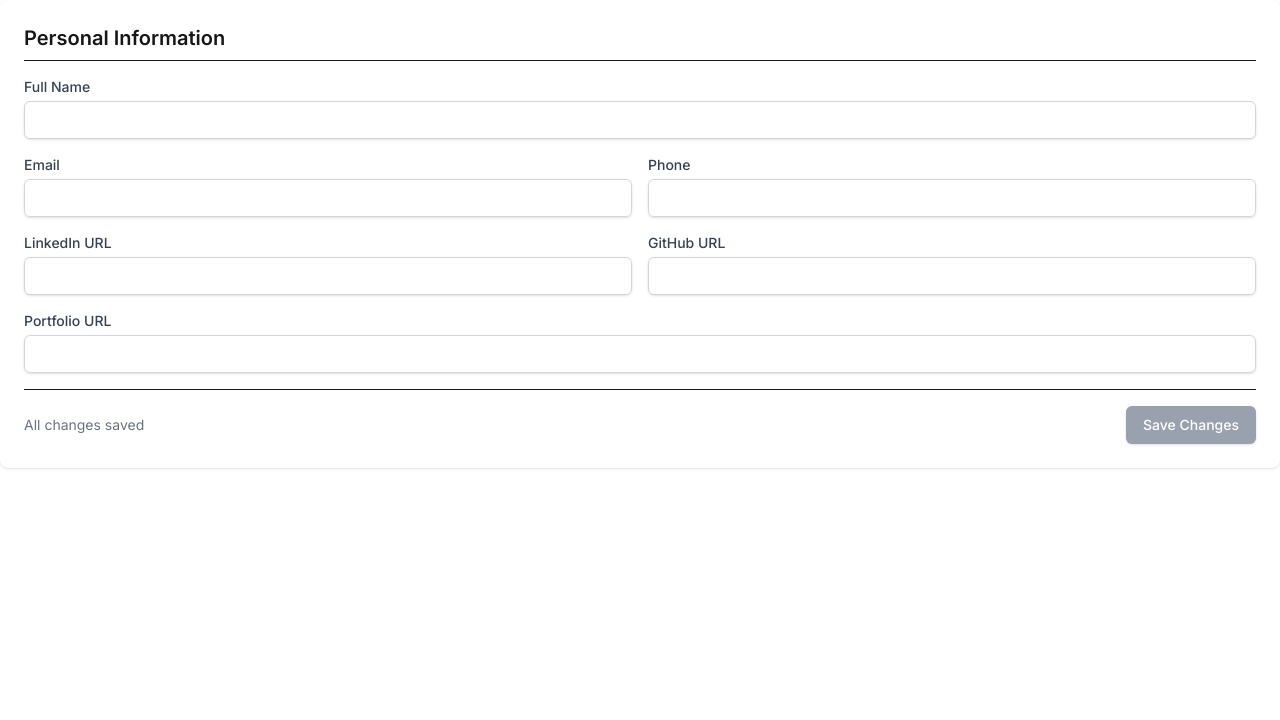
Test: ProfileHeaderForm › handles 401 on save
Type "Jane Doe" into the field named "fullName" below "Full Name" at {"x": 640, "y": 120}, box [24,101,1256,139]
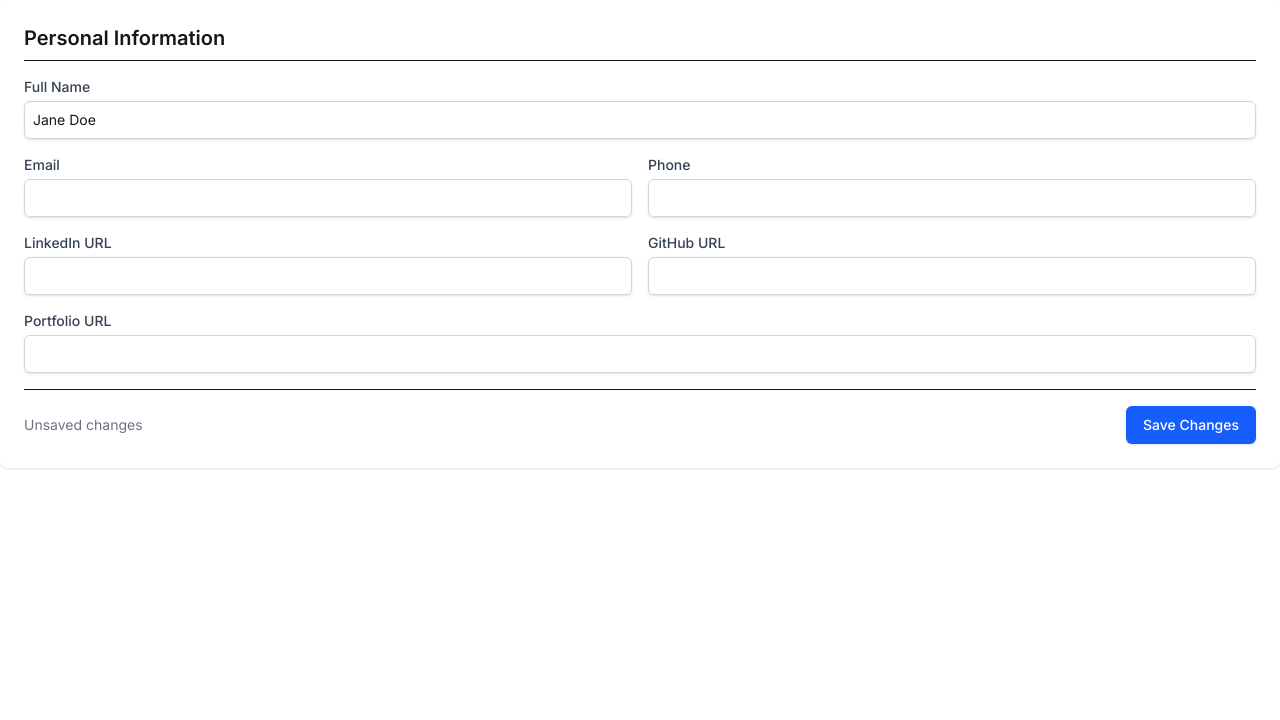
Click the submit button at {"x": 1191, "y": 425}, box [1126,406,1256,444]
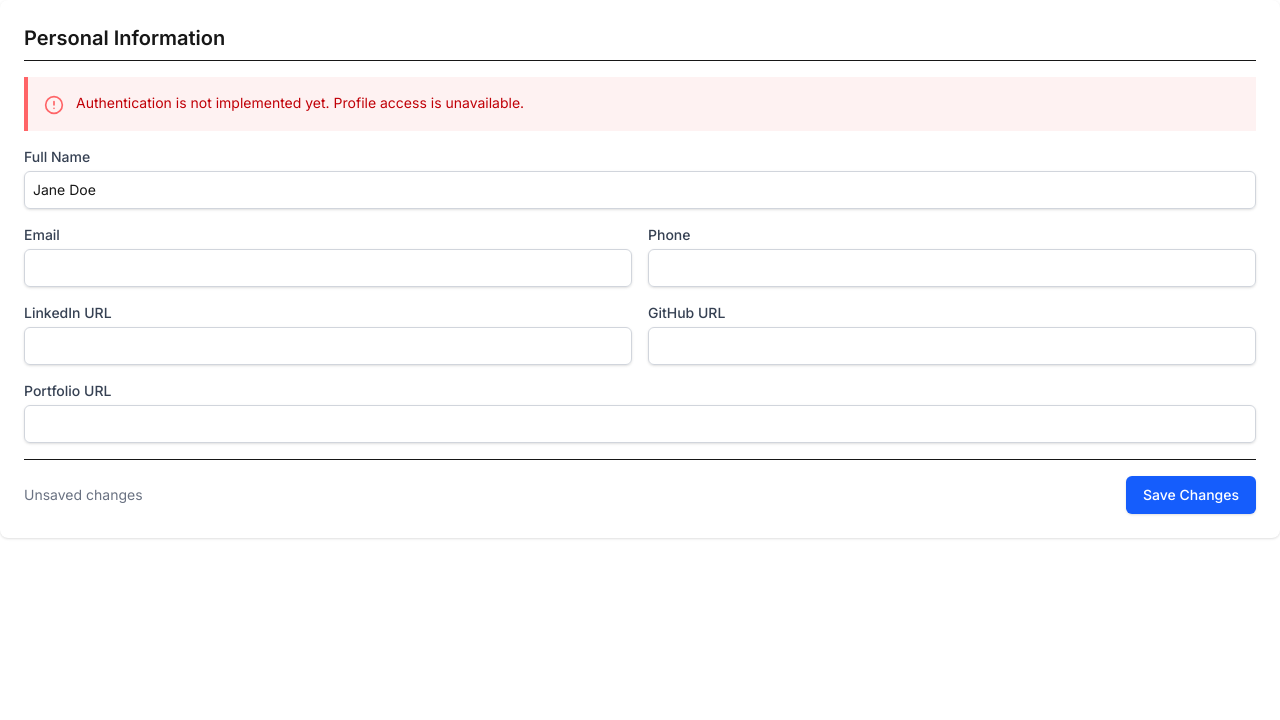
Now the text "Authentication is not implemented yet" is shown, box [76,94,524,111]
